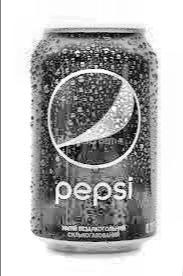can: (20, 16, 161, 266)
